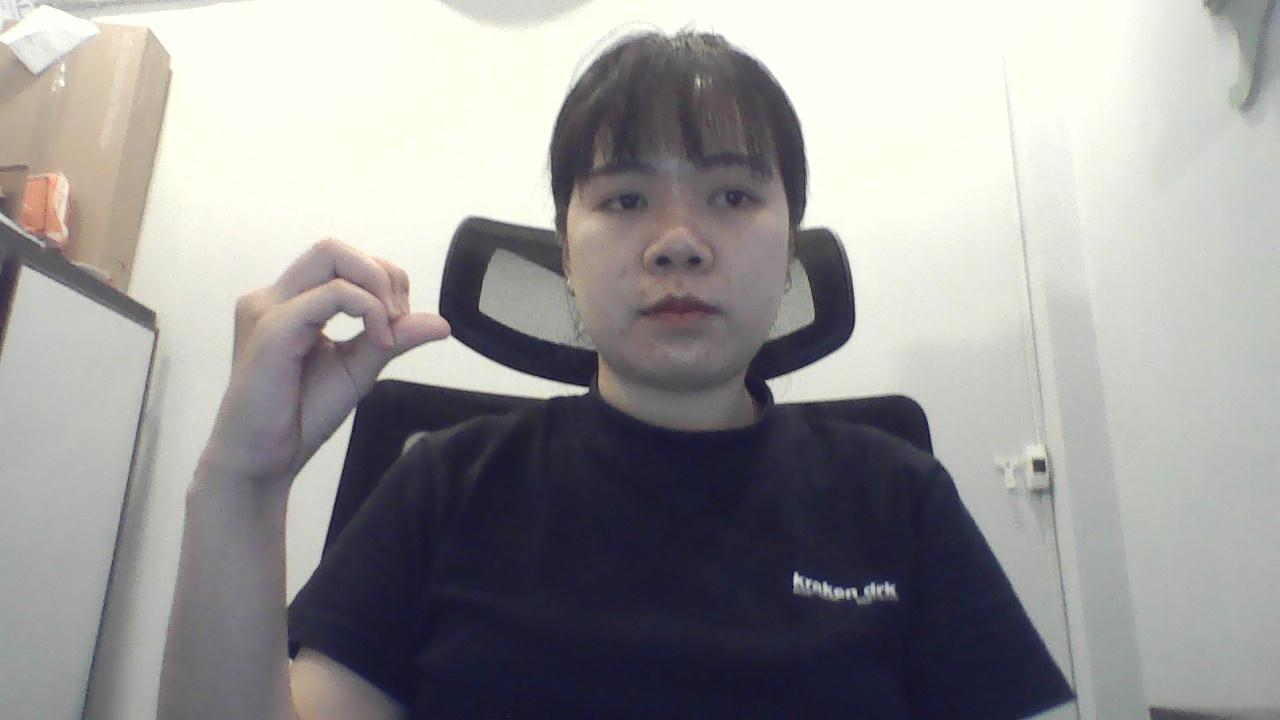S: (175, 222, 452, 495)
